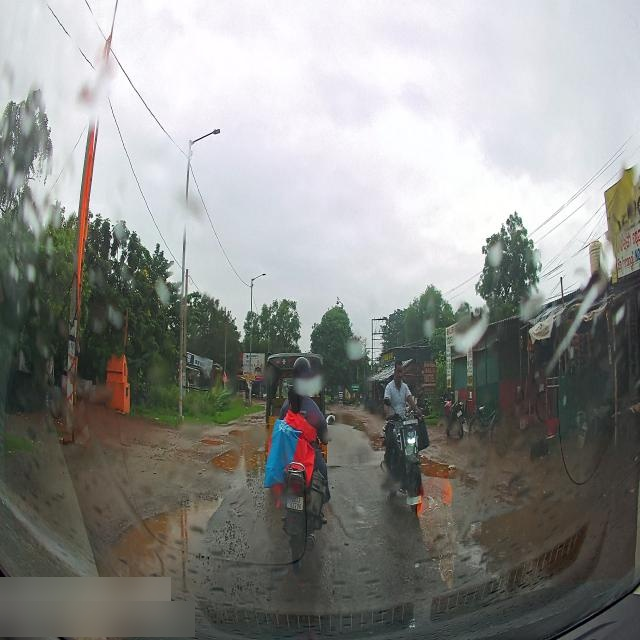pothole: (110, 487, 222, 573), (211, 448, 263, 482), (421, 453, 455, 482), (336, 411, 369, 431), (228, 419, 252, 438), (202, 435, 226, 451), (368, 434, 384, 454)
